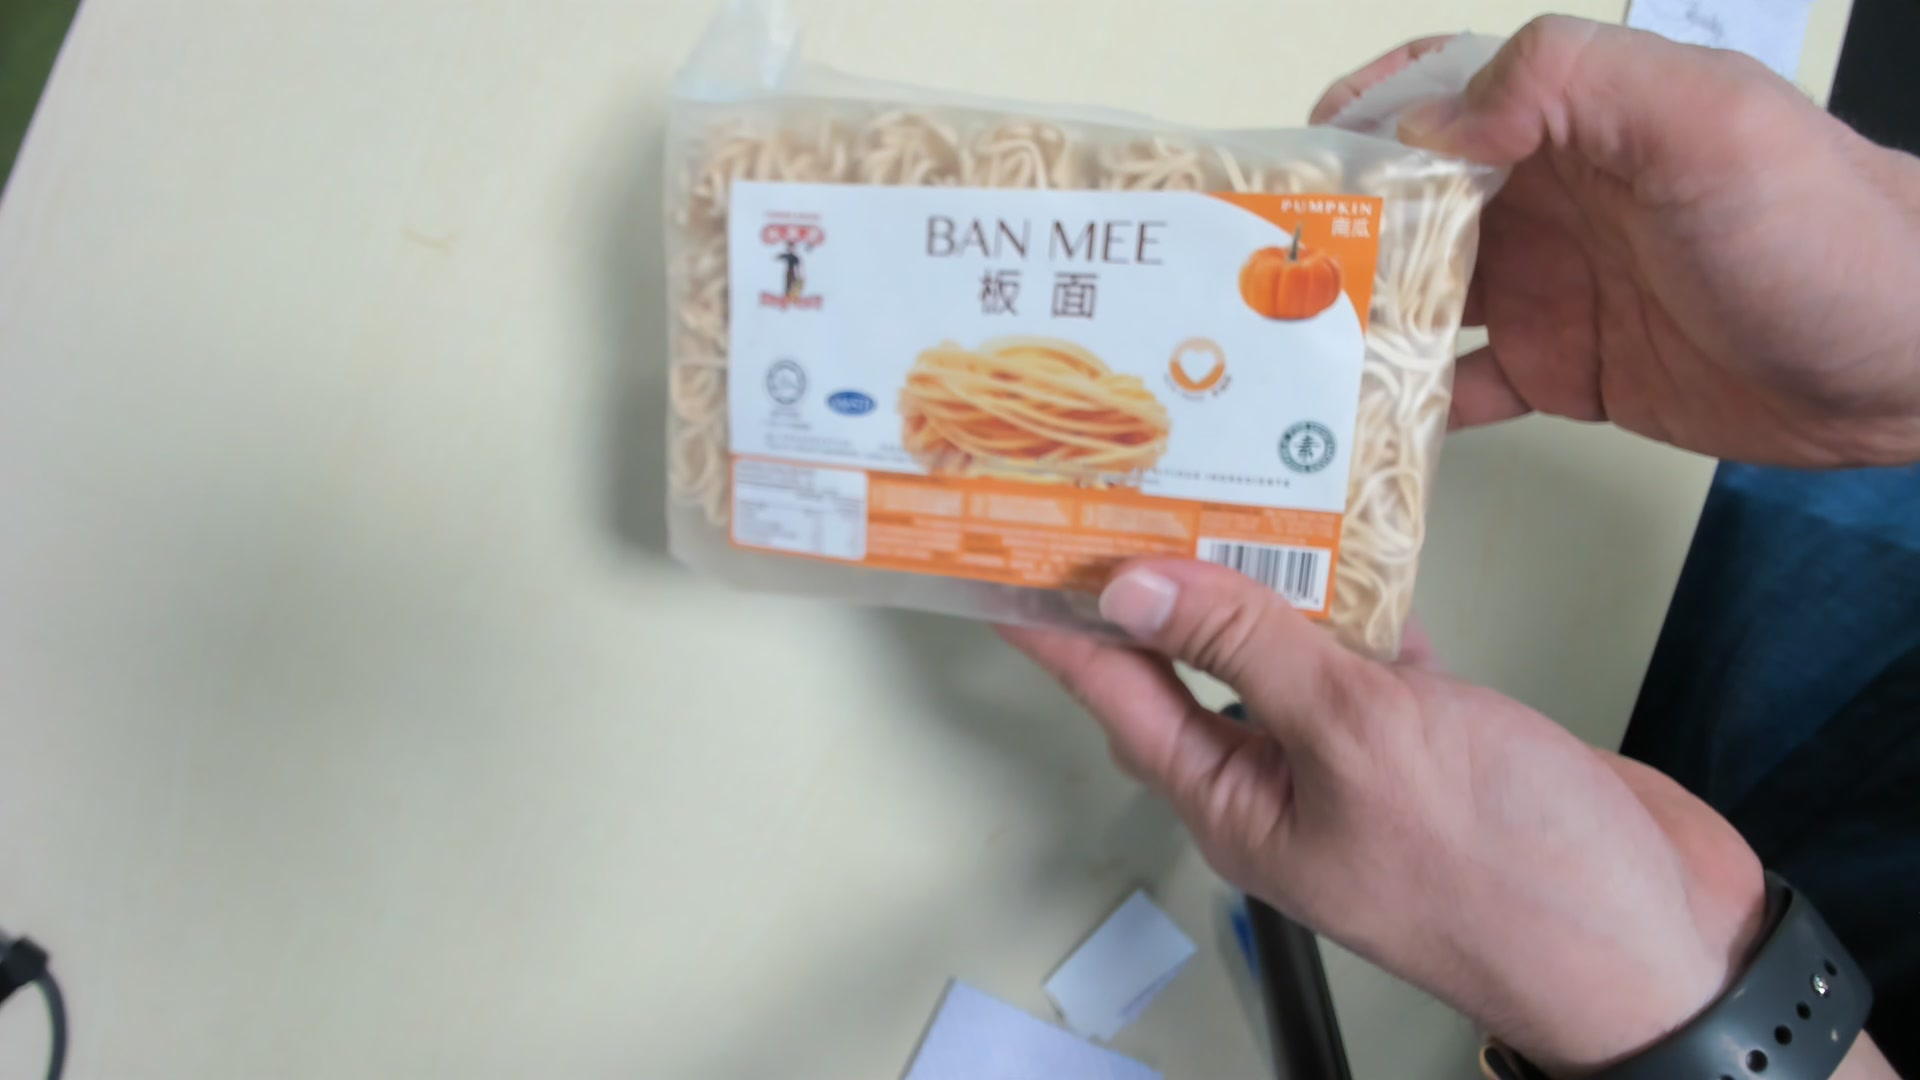OtherNoodles_500-599g_Halal_NonHealthy: (659, 88, 1458, 666)
